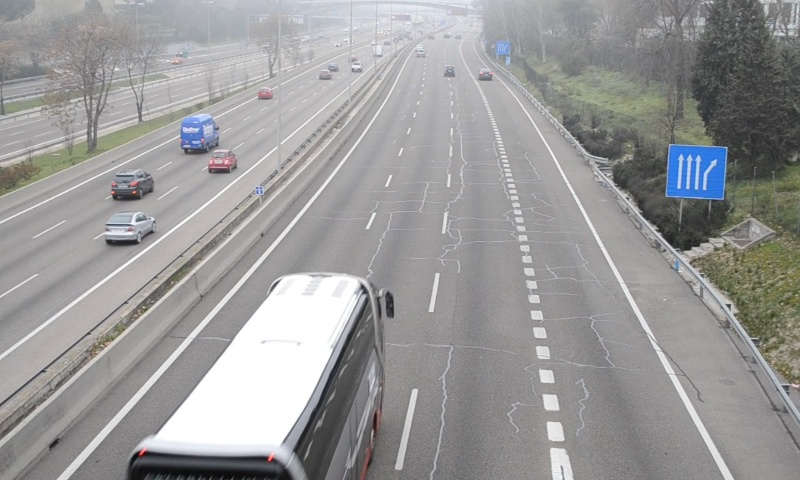bus: (130, 273, 380, 478)
car: (477, 68, 492, 82), (443, 64, 456, 78)
